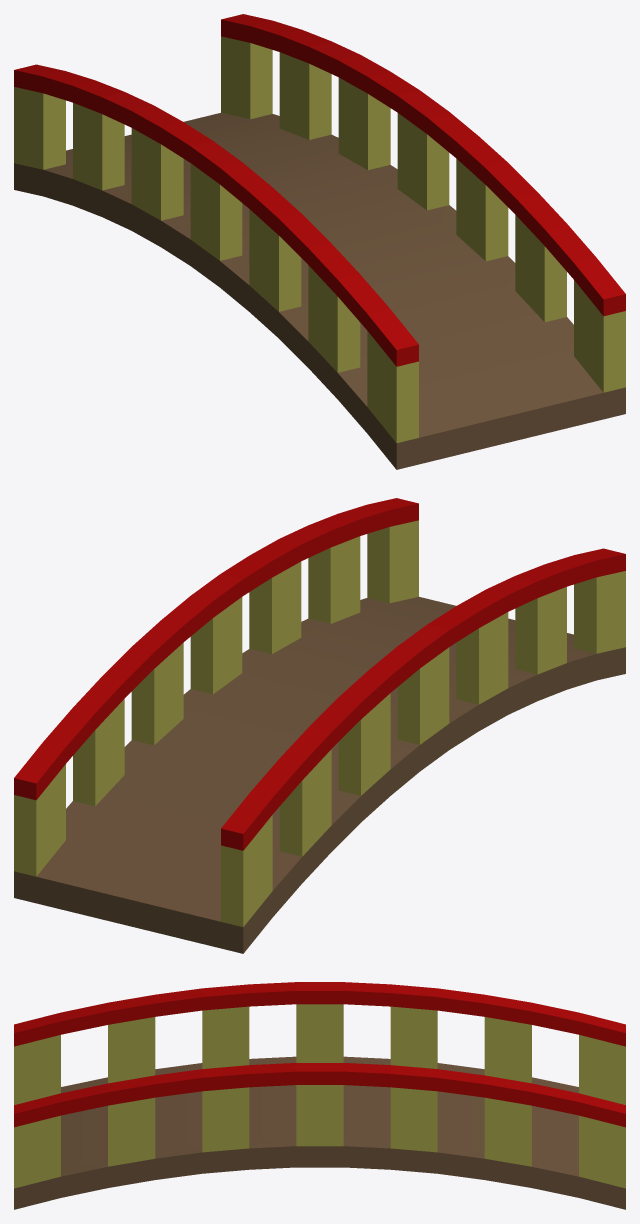
Rendered from Bridge.fbx.
3 renders of one model, top to bottom at view 1: azimuth 30°, elevation 25°; view 2: azimuth 150°, elevation 25°; view 3: azimuth 270°, elevation 25°, orthographic. The views are drawn at different scales.
Parts seen in each view (by area): view 1: Bridge; view 2: Bridge; view 3: Bridge.
Part boxes in pixels (<box>): Bridge: <box>14,14,625,469</box>; Bridge: <box>14,498,625,953</box>; Bridge: <box>14,982,625,1209</box>.
Size of the model in its own units: 9 by 6.48 by 26.
